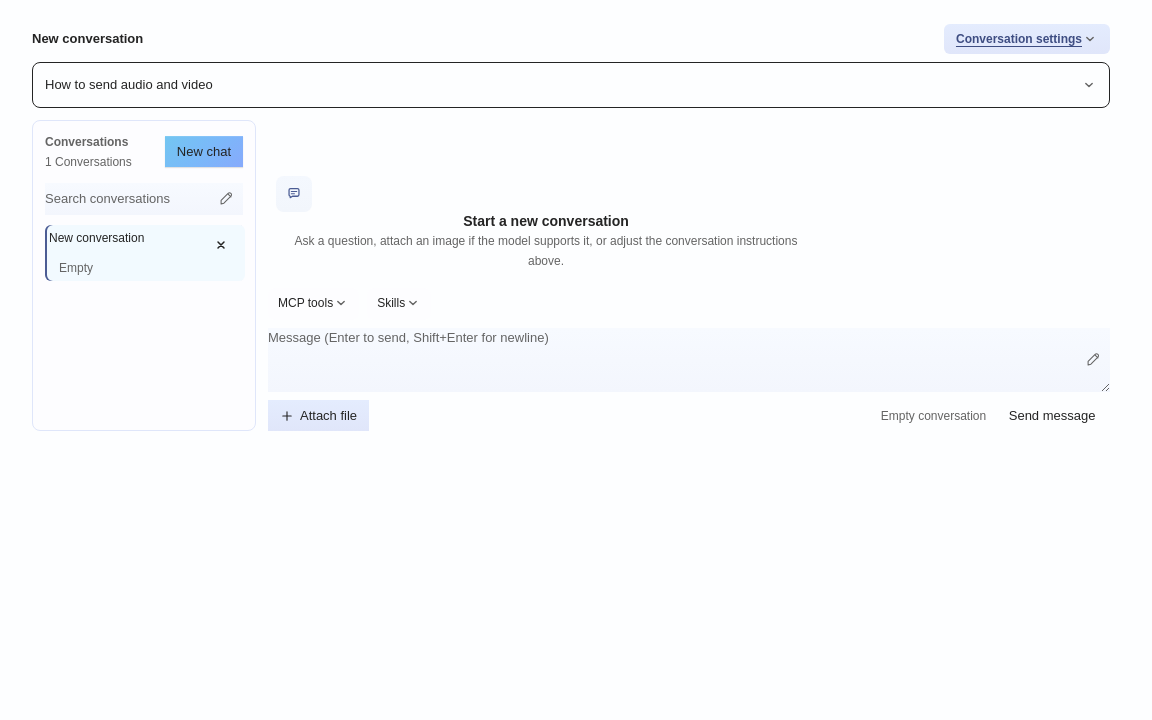
ChatPanel unified attachments › sends the original model identifier for a sharded model
Expected: the element "conversation" is shown, 276,176 -> 798,268
Type "Hello" into the text box named "Chat message" at [689, 360], box 268,328 -> 1110,392
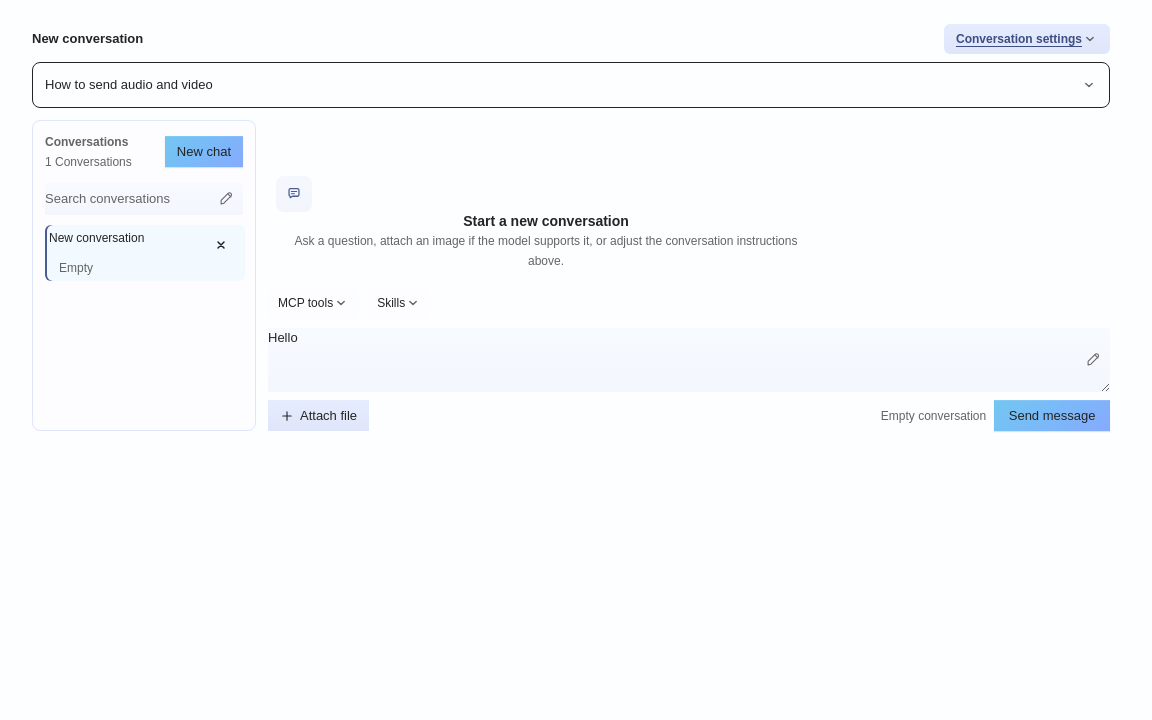
Click the button named "Send message" at [1052, 416], box 994,400 -> 1110,431
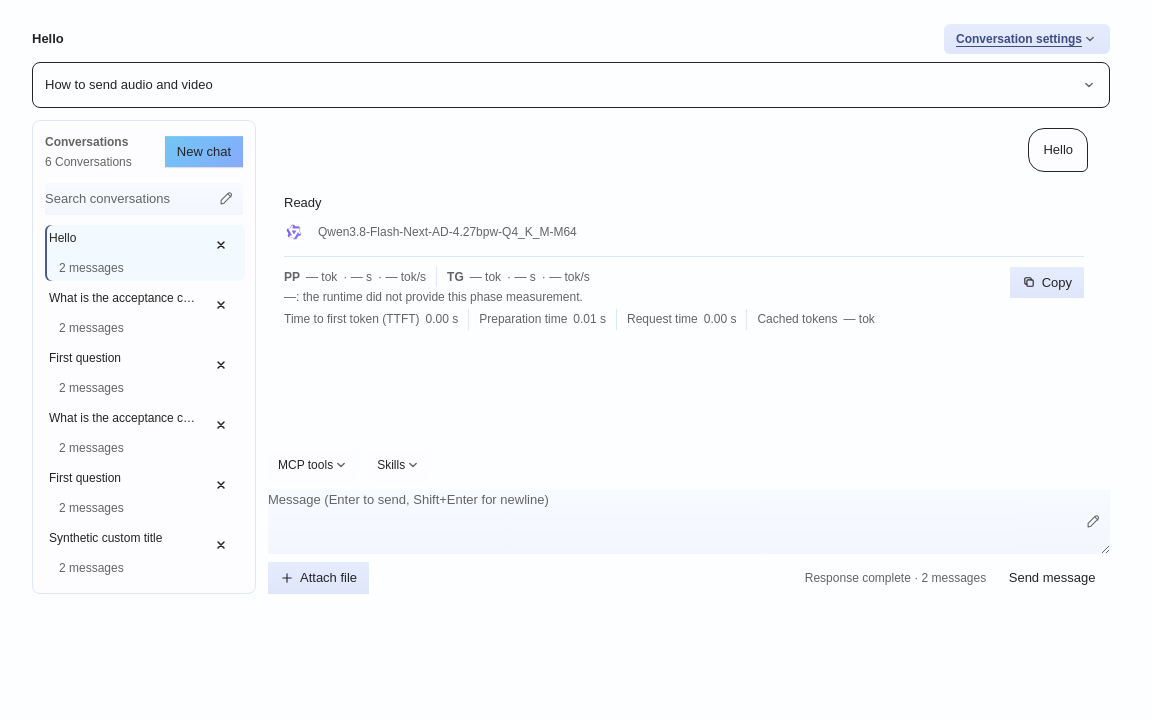
Expected: the text "Ready" is shown, 284,195 -> 322,210
